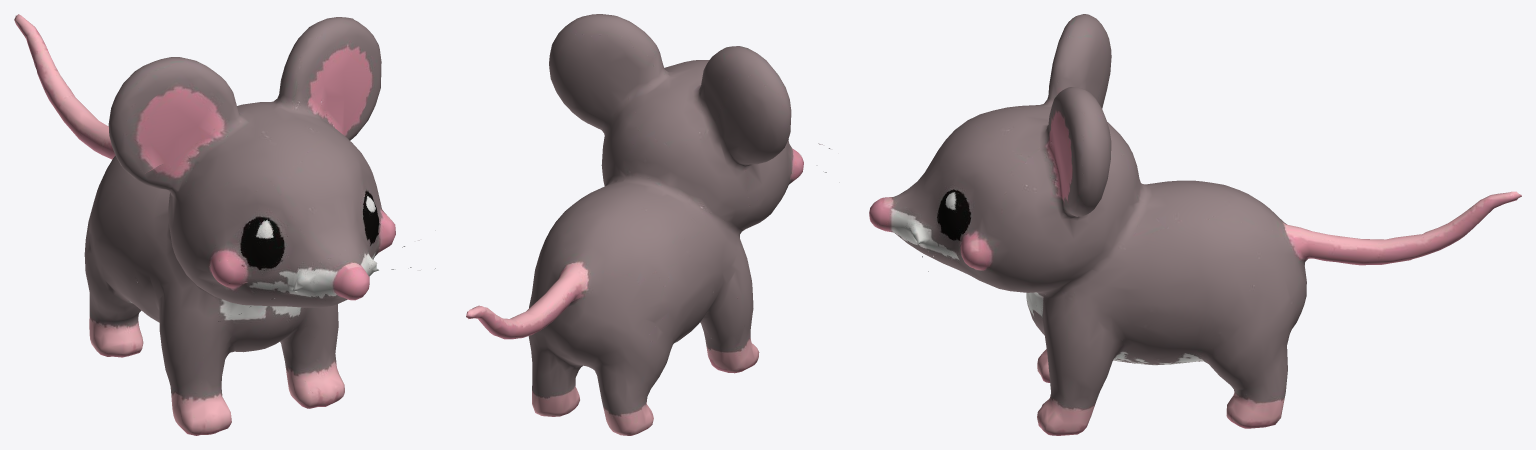
Rendered from rat.glb.
3 views of the same model, side by side, from view 1: azimuth 30°, elevation 25°; view 2: azimuth 150°, elevation 25°; view 3: azimuth 270°, elevation 25° (orthographic). The views are drawn at different scales.
Parts seen in each view (by area): view 1: Mesh_0.001; view 2: Mesh_0.001; view 3: Mesh_0.001.
Part boxes in pixels (left/top/right/bottom): Mesh_0.001: left=14, top=14, right=435, bottom=435; Mesh_0.001: left=466, top=14, right=829, bottom=435; Mesh_0.001: left=869, top=14, right=1521, bottom=435.
Size of the model in its own units: 0.8481 by 1.11 by 1.89.
1 material, 1 textured.
